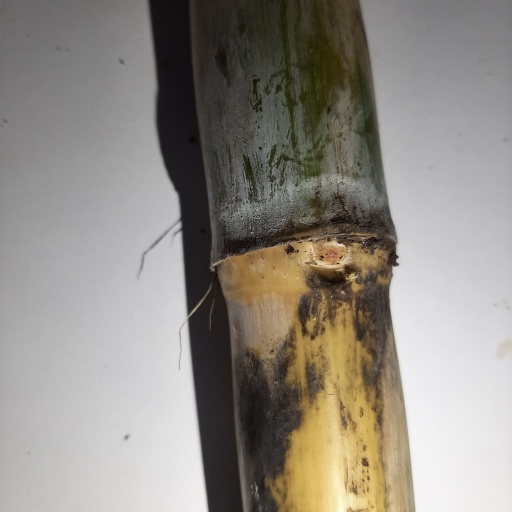Damage_Bud: (314, 240, 354, 276)
